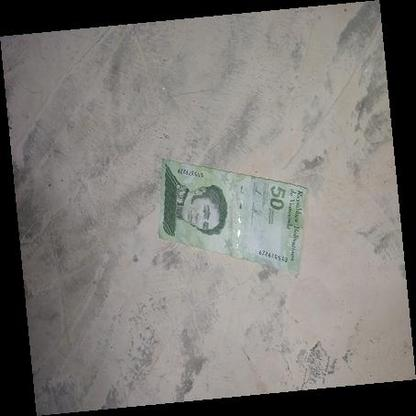vef_front: (158, 158, 308, 278)
